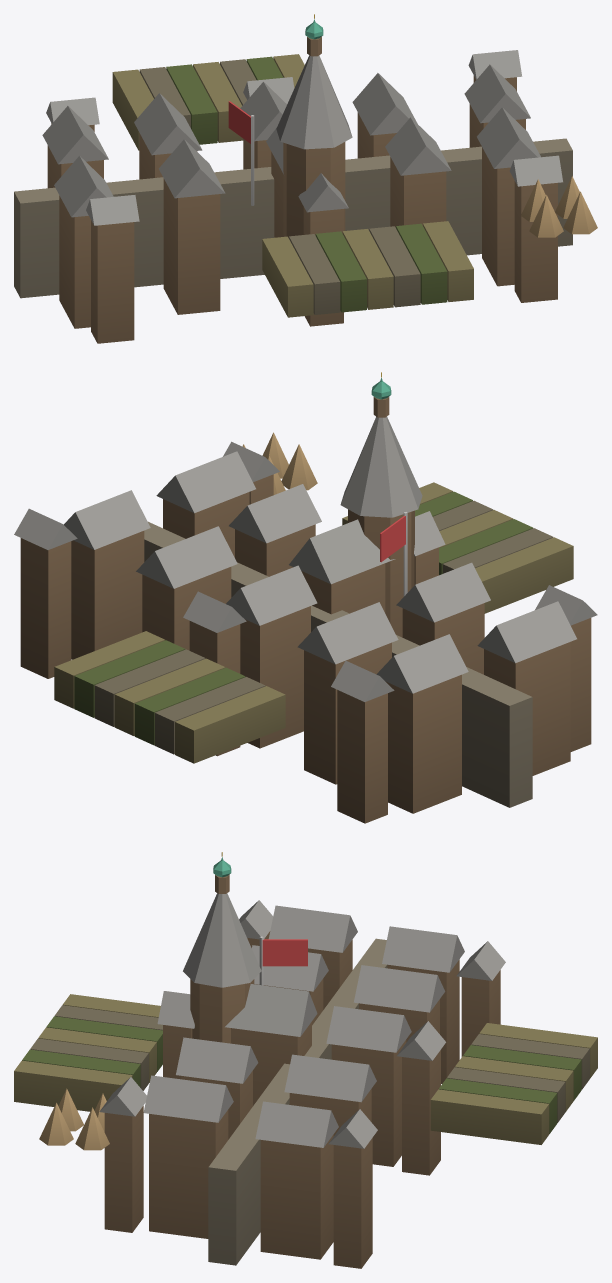
File: village_rus_b.glb
The picture shows the model from 3 angles, top to bottom: view 1: azimuth 30°, elevation 25°; view 2: azimuth 150°, elevation 25°; view 3: azimuth 270°, elevation 25°; orthographic projection. The views are drawn at different scales.
Parts seen in each view (by area): view 1: village_rus_b; view 2: village_rus_b; view 3: village_rus_b.
Boxes of the visible parts, left/top/right/bottom form: village_rus_b: left=14, top=14, right=597, bottom=343; village_rus_b: left=14, top=372, right=597, bottom=823; village_rus_b: left=14, top=852, right=597, bottom=1268.
Bounding box in the file's own units: 1.94 × 1.09 × 2.01.
